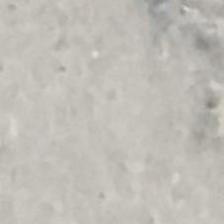Non_Crack: (35, 103, 219, 208)
